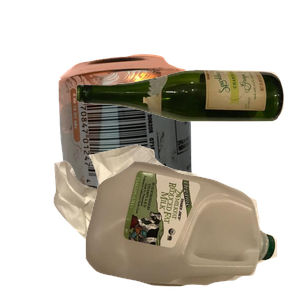glass: (74, 67, 300, 181)
metal: (56, 52, 242, 232)
plastic: (83, 159, 300, 300)
trash: (51, 142, 278, 300)
